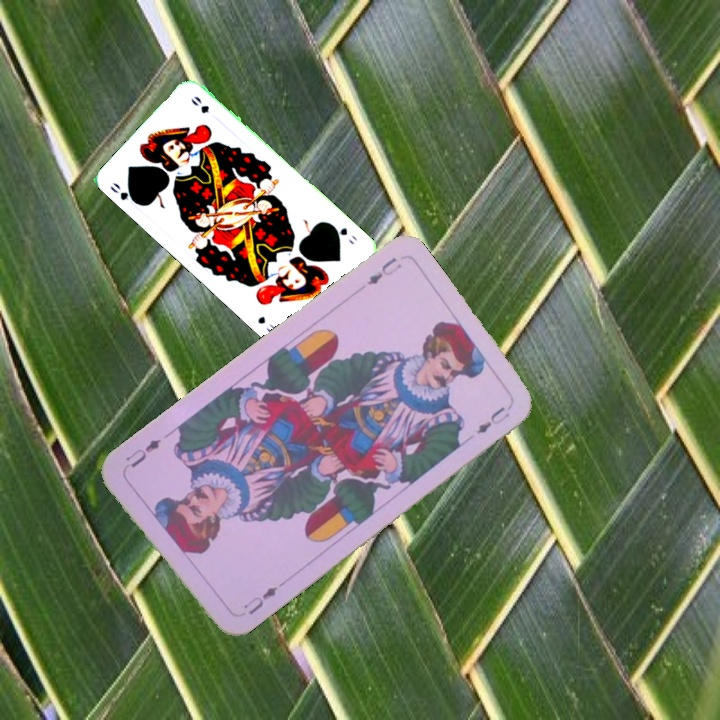EU: (240, 582, 280, 618), (363, 253, 404, 288)
GO: (106, 179, 142, 208), (327, 220, 360, 248)
